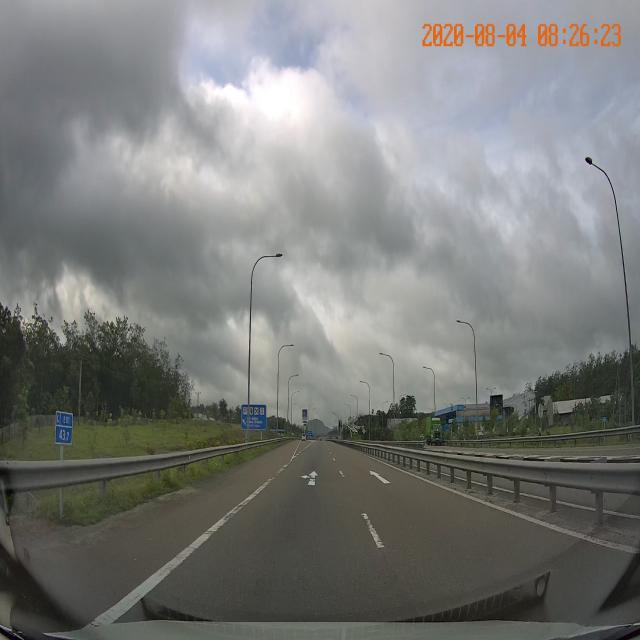forward_lft: (248, 462, 362, 497)
